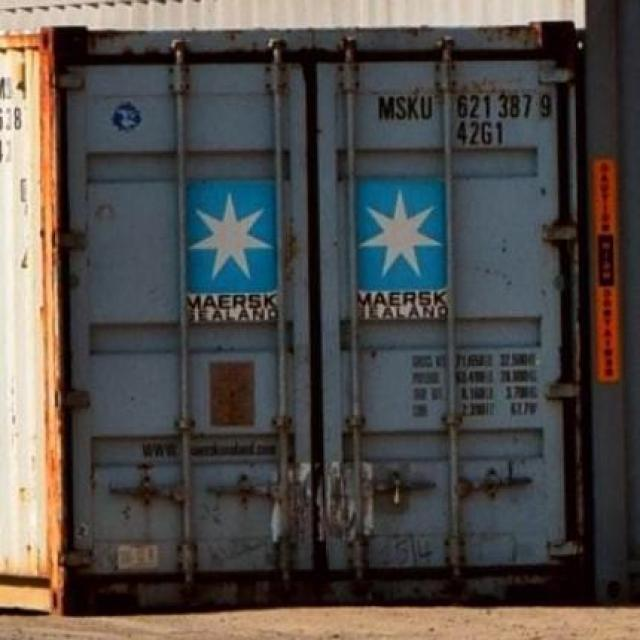ISO: (458, 125, 506, 149)
container_number: (379, 95, 547, 124)
